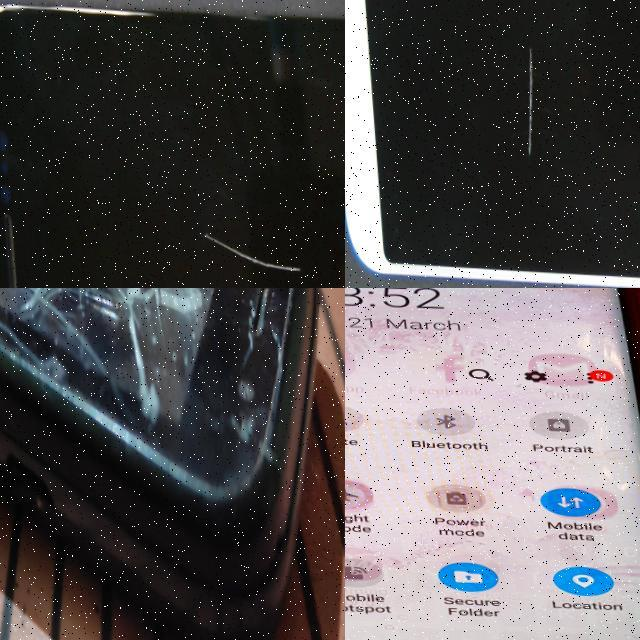scratch: (174, 188, 313, 288), (512, 48, 535, 160)
screen crack: (0, 288, 297, 480)
